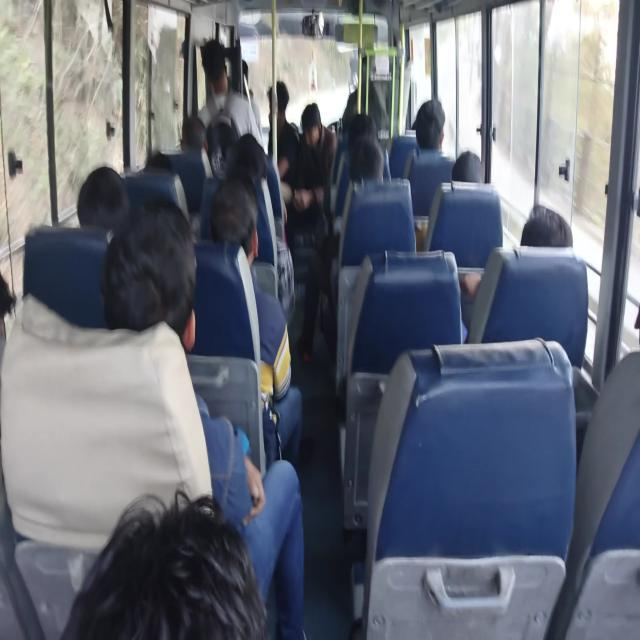person: (91, 502, 260, 640), (116, 205, 204, 334), (79, 160, 137, 229), (599, 290, 640, 384), (212, 181, 260, 261), (522, 196, 576, 264), (194, 41, 234, 104), (356, 139, 394, 190), (143, 138, 187, 182), (413, 100, 444, 148), (172, 113, 209, 153), (266, 76, 293, 128), (299, 106, 332, 148), (228, 134, 260, 176), (452, 151, 486, 186), (347, 113, 381, 146), (231, 131, 262, 156)
